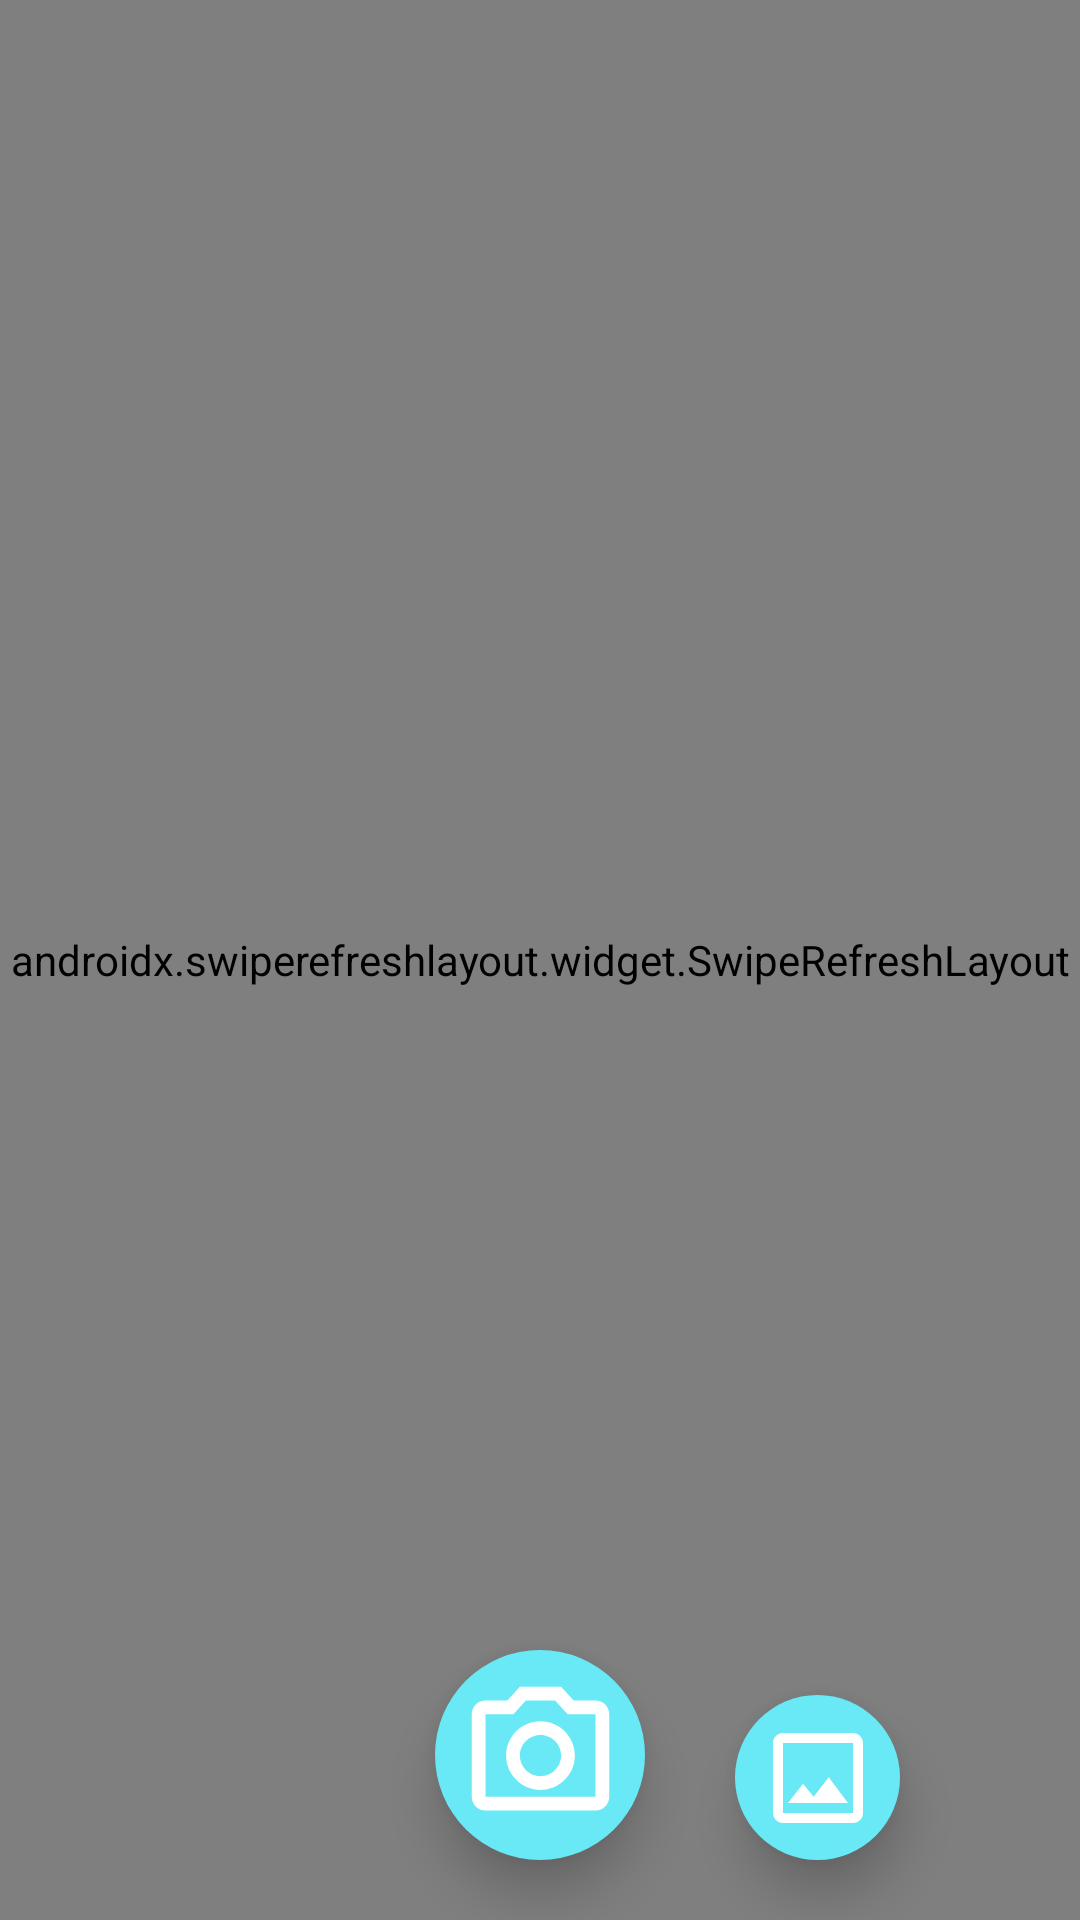

Icon bounding boxes for this 1080 × 1920 phone screenshot, format (x1, y1, x2, y2):
insert photo: (735, 1695, 900, 1860)
photo camera: (435, 1650, 645, 1860)
